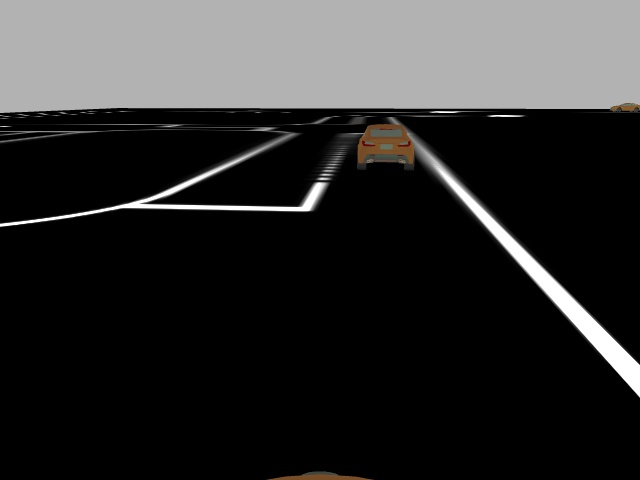obstacle_car: (353, 121, 416, 171)
